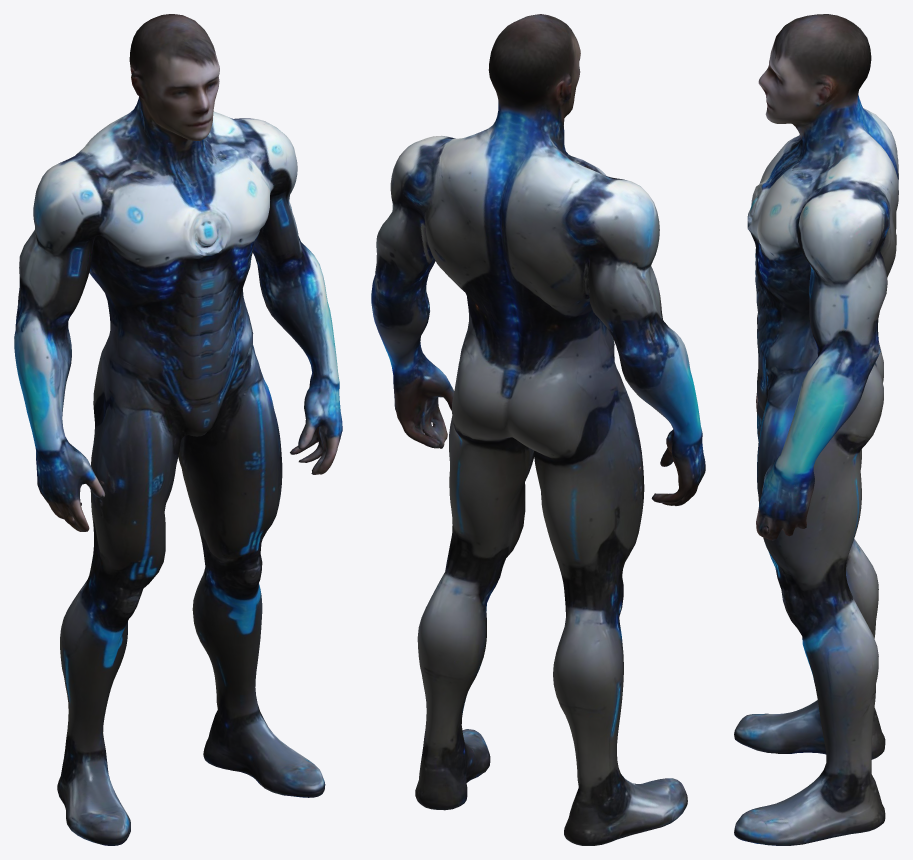
File: Android.glb
3 views of the same model, side by side, from view 1: azimuth 30°, elevation 25°; view 2: azimuth 150°, elevation 25°; view 3: azimuth 270°, elevation 25° (orthographic).
Parts seen in each view (by area): view 1: Mesh0; view 2: Mesh0; view 3: Mesh0.
Boxes of the visible parts, x1,y1,x2,y2 form: Mesh0: (14,14,342,845); Mesh0: (371,14,705,845); Mesh0: (734,14,898,845).
Size of the model in its own units: 0.8254 by 2 by 0.3877.
1 material, 1 textured.
